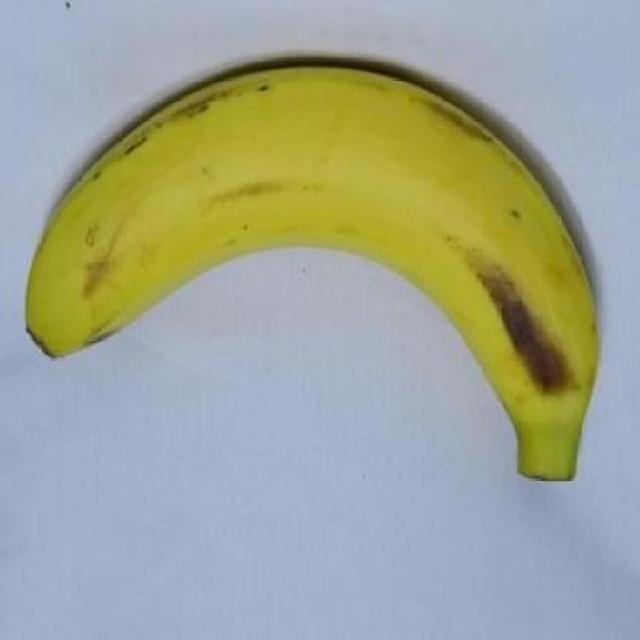ripe: (0, 61, 640, 502)
